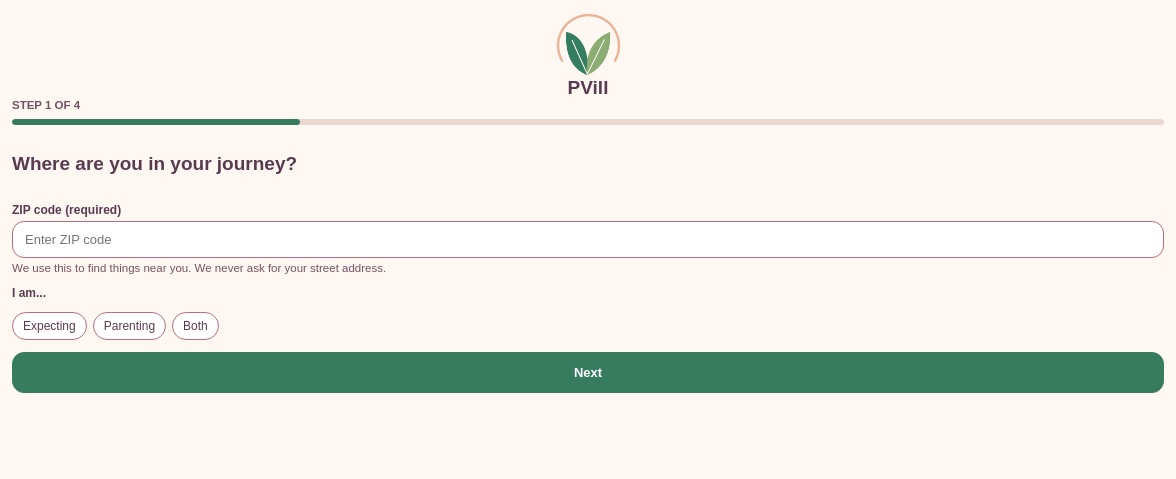
Test: ProfileSetupPage › shows the arrival month only for Expecting or Both
Expected: the field labelled "Expected arrival month" is not shown
Click the radio button labelled "Expecting" at (49, 326), box [12,312,87,340]
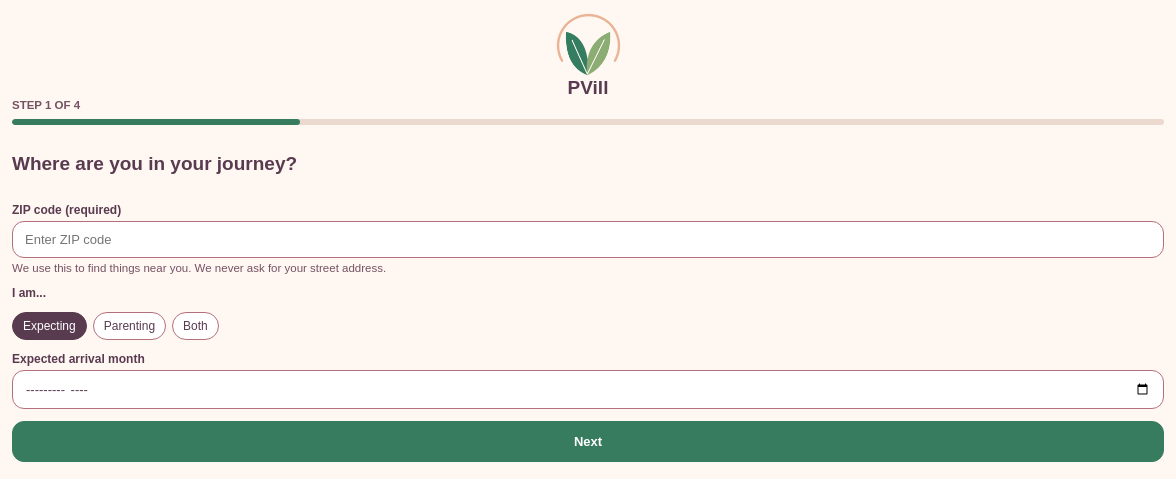
Expected: the field labelled "Expected arrival month" is shown, [12,370,1164,408]
Click the radio button labelled "Parenting" at (129, 326), box [93,312,166,340]
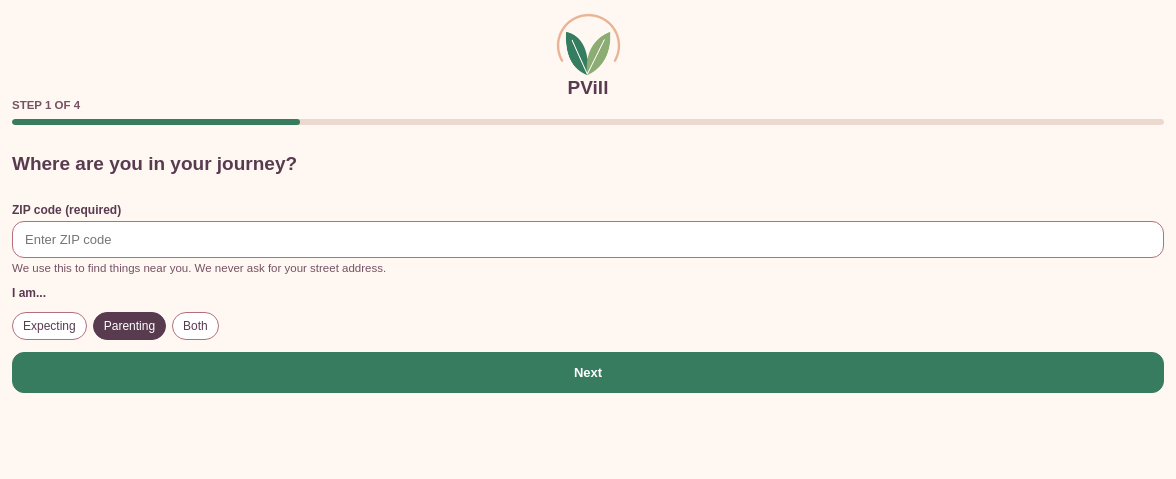
Expected: the label labelled "Expected arrival month" is gone
Click the radio button labelled "Both" at (195, 326), box [172,312,219,340]
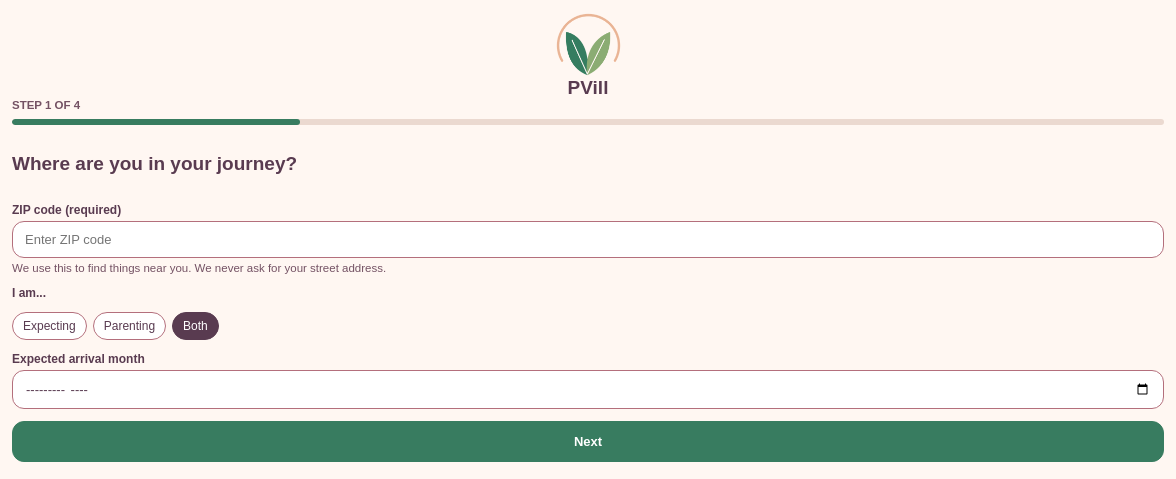
Expected: the field labelled "Expected arrival month" is shown, [12,370,1164,408]
